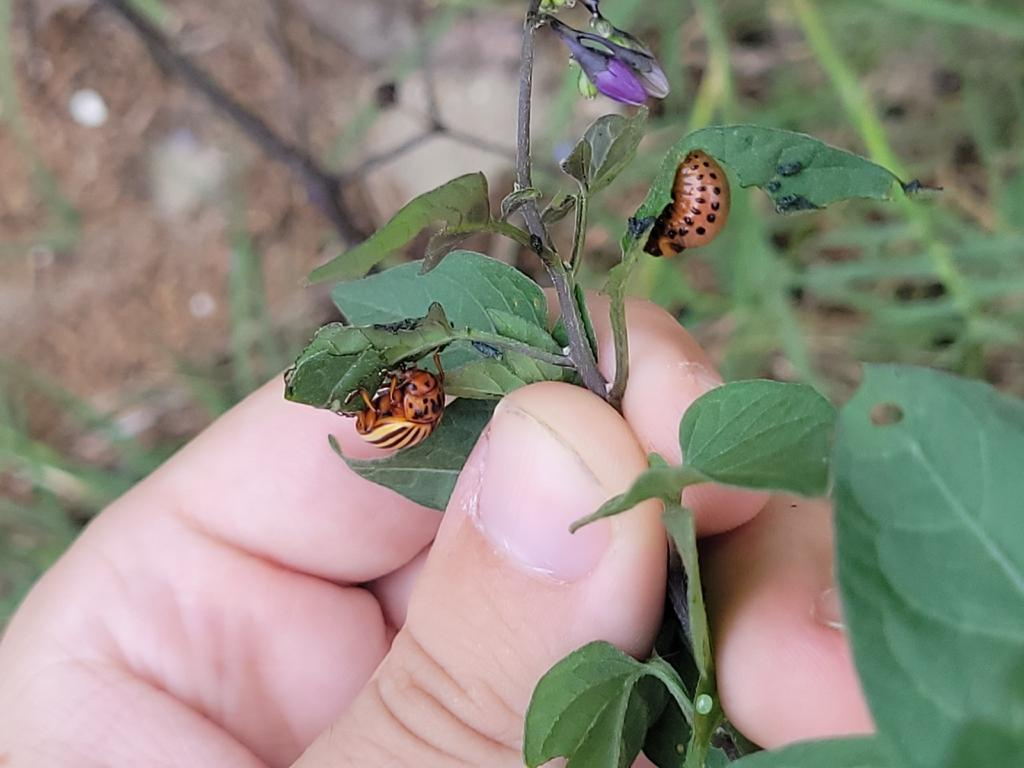potato_beetle: (331, 329, 466, 471), (626, 126, 744, 281)
